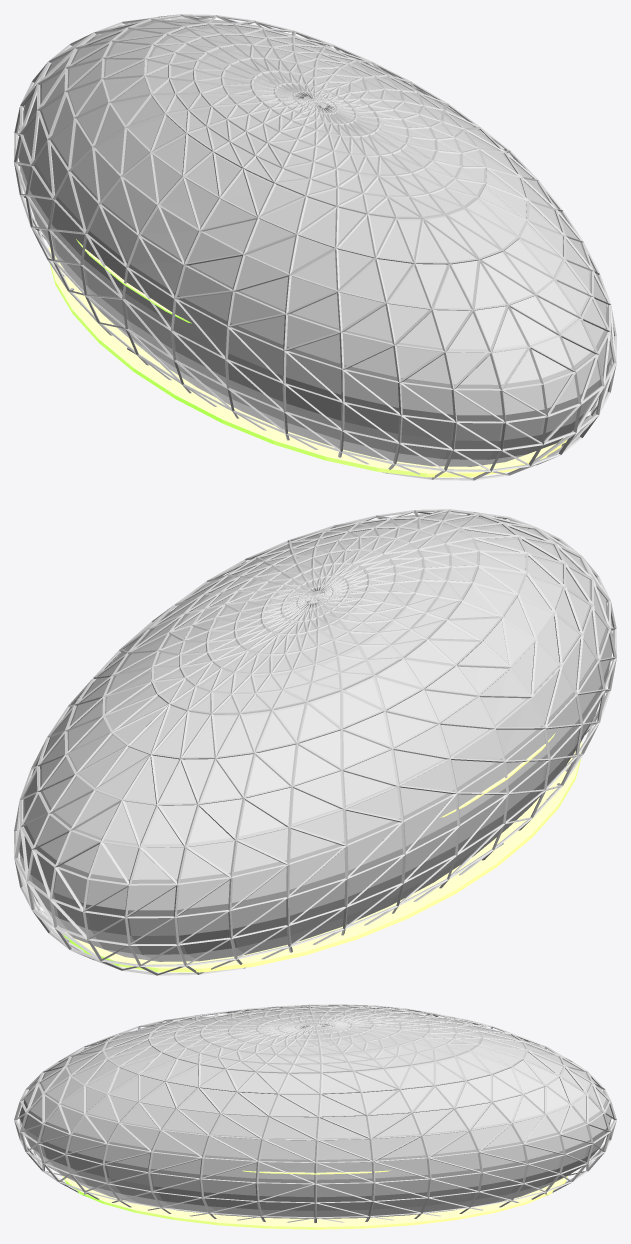
Rendered from Crypto.comStadium.glb.
The picture shows the model from 3 angles, top to bottom: view 1: azimuth 30°, elevation 25°; view 2: azimuth 150°, elevation 25°; view 3: azimuth 270°, elevation 25°; orthographic projection. The views are drawn at different scales.
Visible parts, largest first — view 1: OuterSphere, OuterMesh, InuitTracks; view 2: OuterSphere, OuterMesh, InuitTracks; view 3: OuterSphere, OuterMesh, InuitTracks.
Part boxes in pixels (<box>): OuterSphere: <box>19,19,611,466</box>; OuterMesh: <box>14,14,616,480</box>; InuitTracks: <box>48,239,567,477</box>; OuterSphere: <box>19,514,611,961</box>; OuterMesh: <box>14,509,616,975</box>; InuitTracks: <box>63,733,582,972</box>; OuterSphere: <box>19,1008,611,1218</box>; OuterMesh: <box>14,1004,616,1222</box>; InuitTracks: <box>63,1170,567,1229</box>.
Size of the model in its own units: 2.07 by 1.19 by 4.32.
